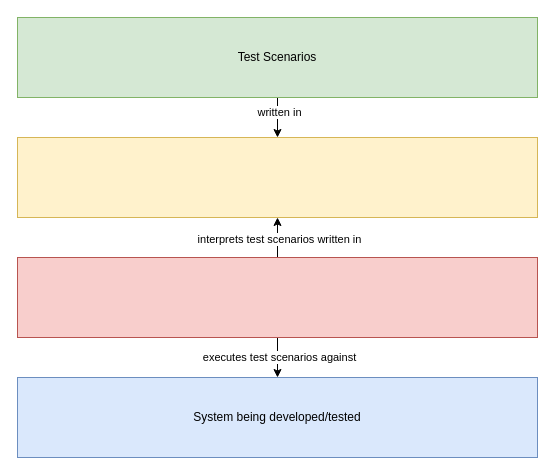
Some shapes in this 555 by 475 pixel diagram are drawn without their labels. The centre of each missing label's shape, as x and y in pixels:
"Domain Specific Language (DSL)" belongs at pixel 277 177.
"Protocol Driver" belongs at pixel 277 297.
